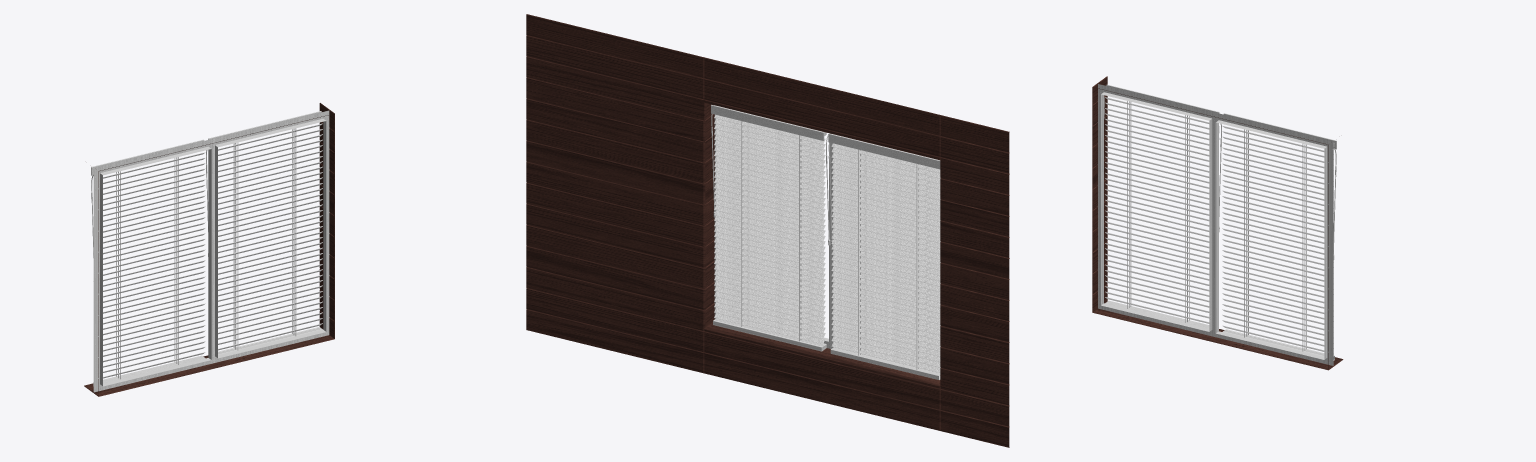
File: Wall_Window.FBX
3 renders of one model, left to right at view 1: azimuth 30°, elevation 25°; view 2: azimuth 150°, elevation 25°; view 3: azimuth 330°, elevation 25°, orthographic.
Visible parts, largest first — view 1: Wall_Window; view 2: Wall_Window; view 3: Wall_Window.
Part boxes in pixels (box(x1,y1,x2,y2)): Wall_Window: box(84, 103, 334, 396); Wall_Window: box(526, 14, 1009, 447); Wall_Window: box(1092, 76, 1343, 370).
Size of the model in its own units: 176 by 110 by 9.65.
2 materials, 2 textured.
